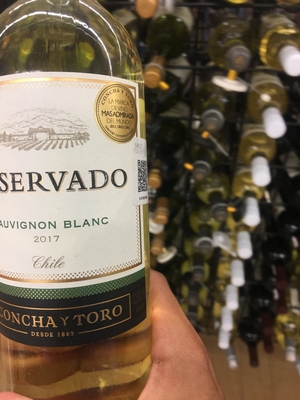reservado sauvignon blanc: (1, 26, 145, 391)
